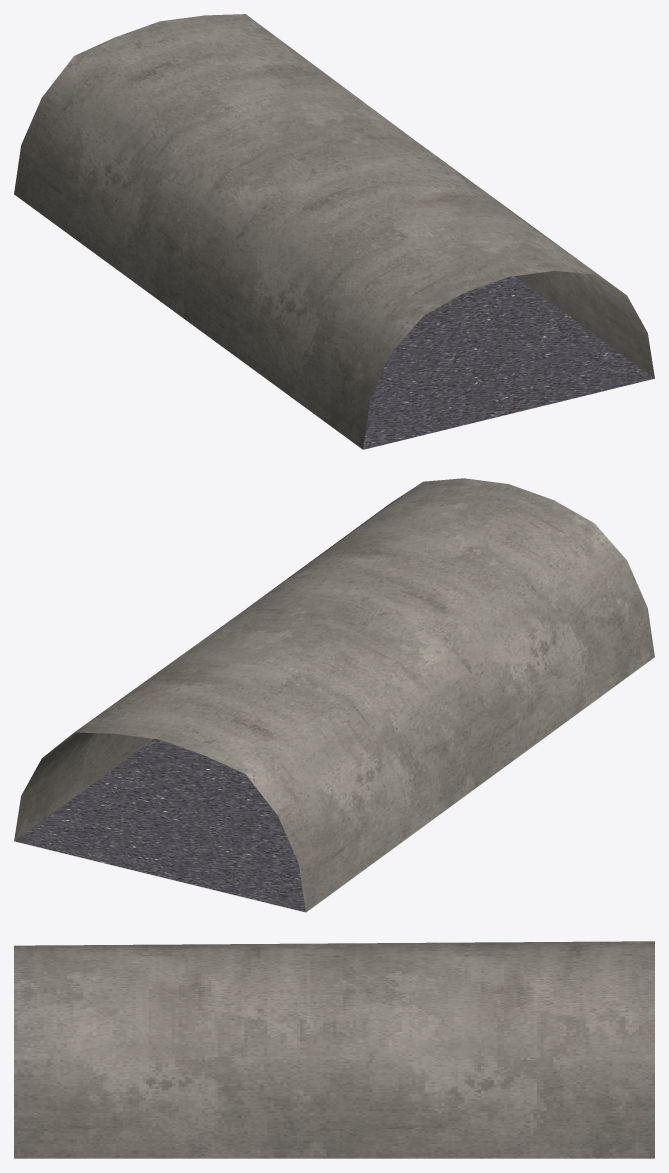
The model's file is Main.glb.
The picture shows the model from 3 angles, top to bottom: view 1: azimuth 30°, elevation 25°; view 2: azimuth 150°, elevation 25°; view 3: azimuth 270°, elevation 25°; orthographic projection. The views are drawn at different scales.
Parts seen in each view (by area): view 1: polySurface6; view 2: polySurface6; view 3: polySurface6.
Boxes of the visible parts, x1=… form: polySurface6: x1=14, y1=14, x2=654, y2=449; polySurface6: x1=14, y1=478, x2=654, y2=912; polySurface6: x1=14, y1=941, x2=654, y2=1158.
Size of the model in its own units: 2 by 0.8999 by 4.14.
1 material, 1 textured.
